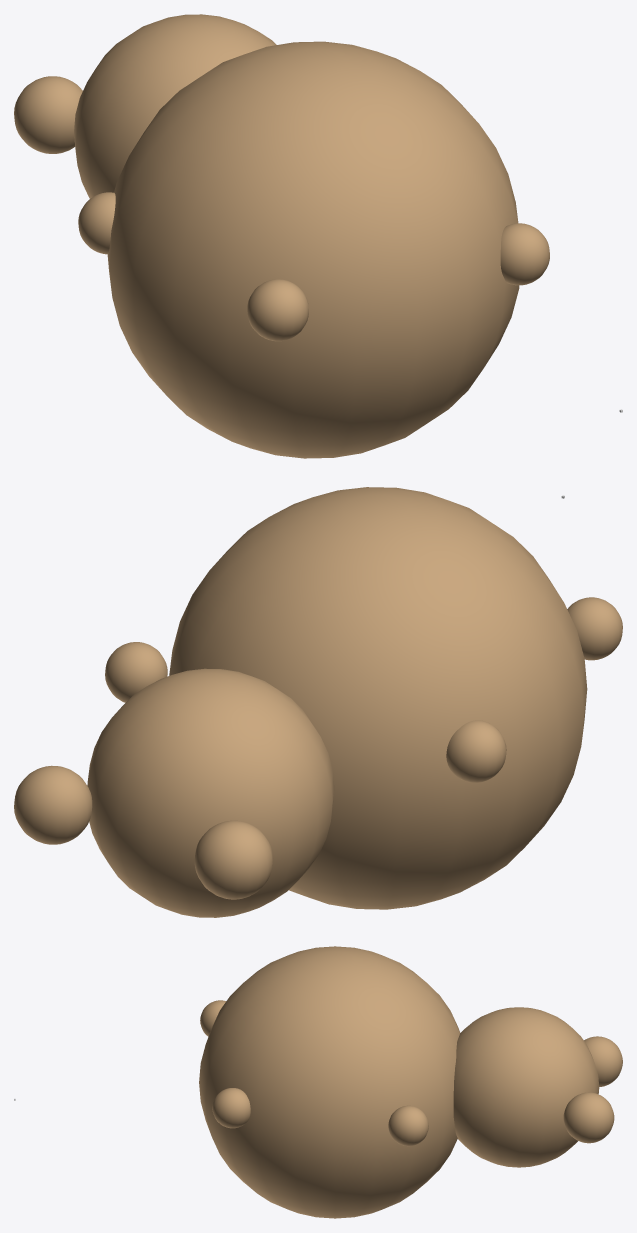
File: oso.glb
3 views of the same model, one above another, from view 1: azimuth 30°, elevation 25°; view 2: azimuth 150°, elevation 25°; view 3: azimuth 270°, elevation 25° (orthographic). The views are drawn at different scales.
Parts seen in each view (by area): view 1: oso; view 2: oso; view 3: oso.
Boxes of the visible parts, <box> form: oso: <box>14,14,549,458</box>; oso: <box>14,487,622,917</box>; oso: <box>199,946,622,1218</box>.
Bounding box in the file's own units: 383 × 357 × 798.
